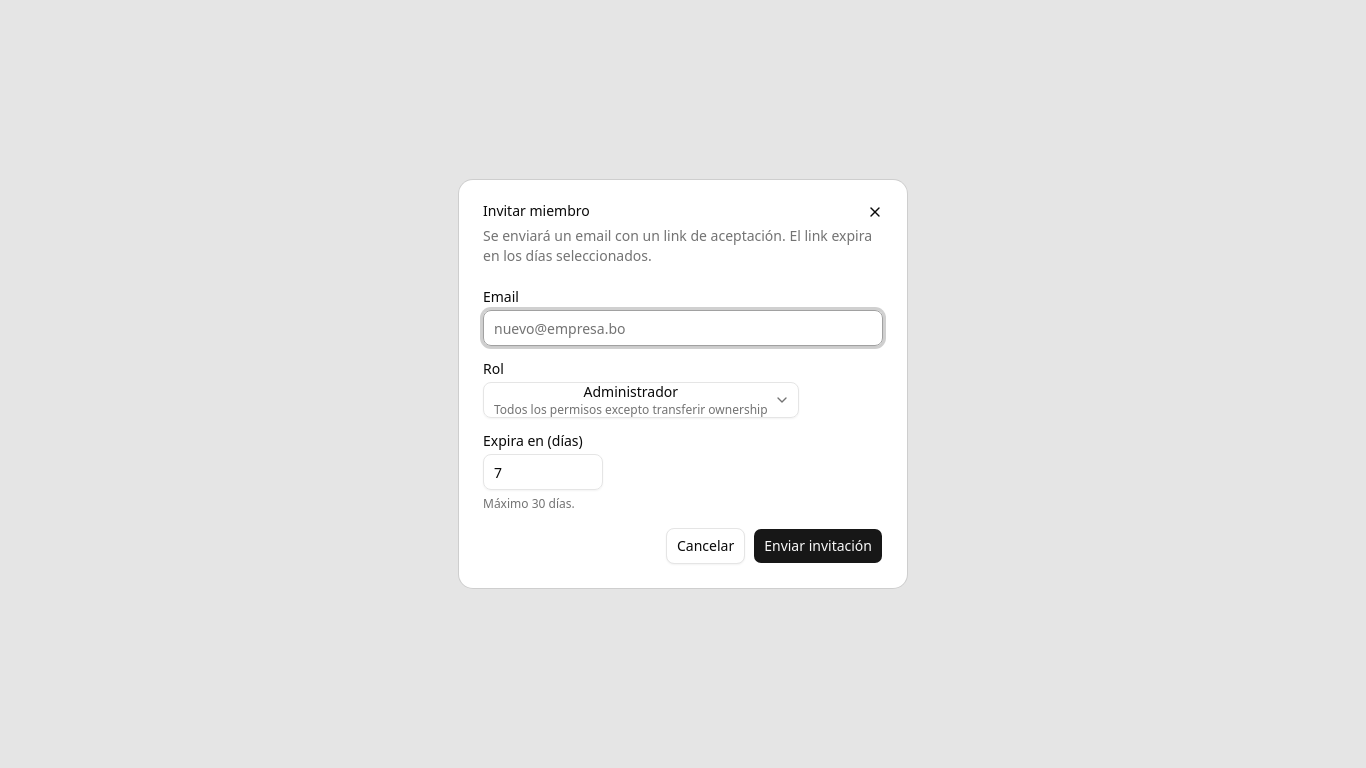
Test: InviteMemberDialog › con hook devolviendo roles — muestra el grupo Sistema con Administrador
Click the dropdown at (641, 400), box [483,382,799,418]
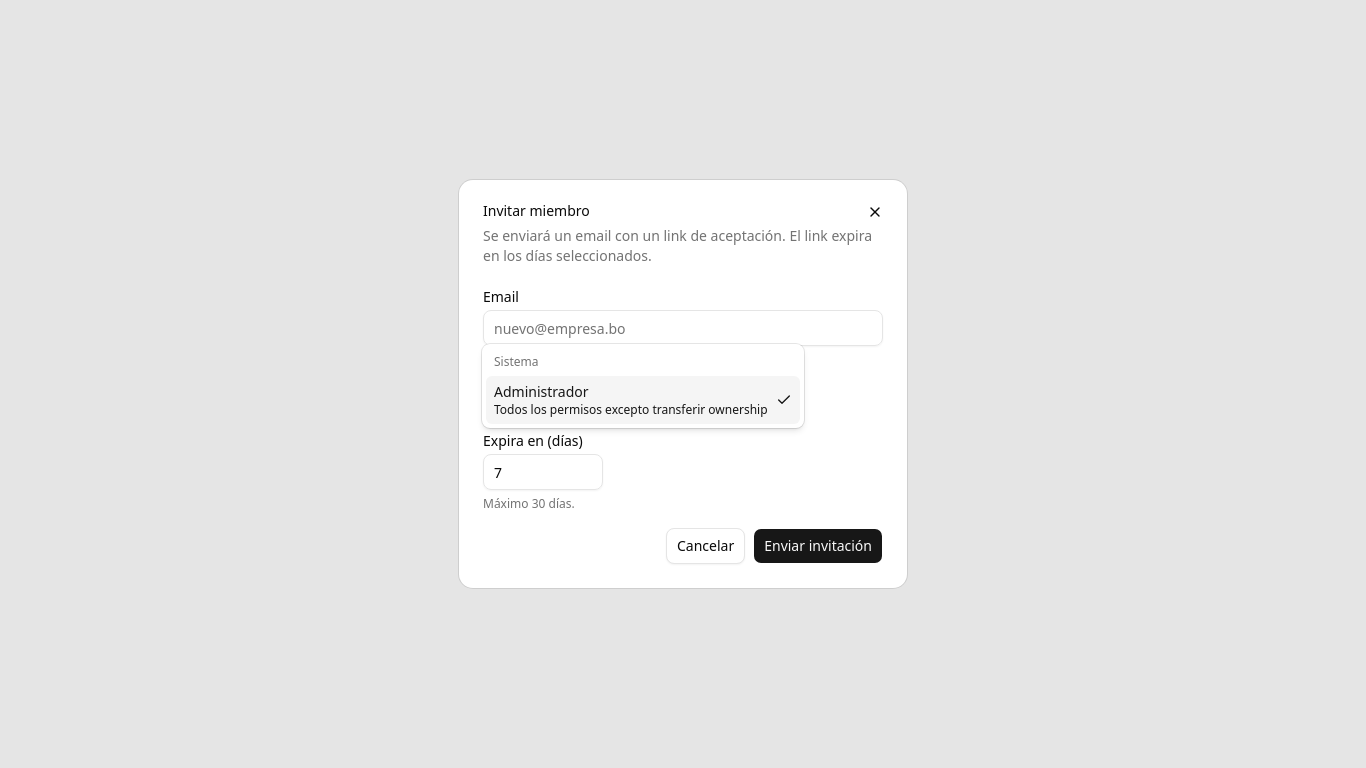
Now the text "Sistema" is shown, box [494,353,538,370]
Now the option "Administrador" is shown, box [486,376,800,424]
